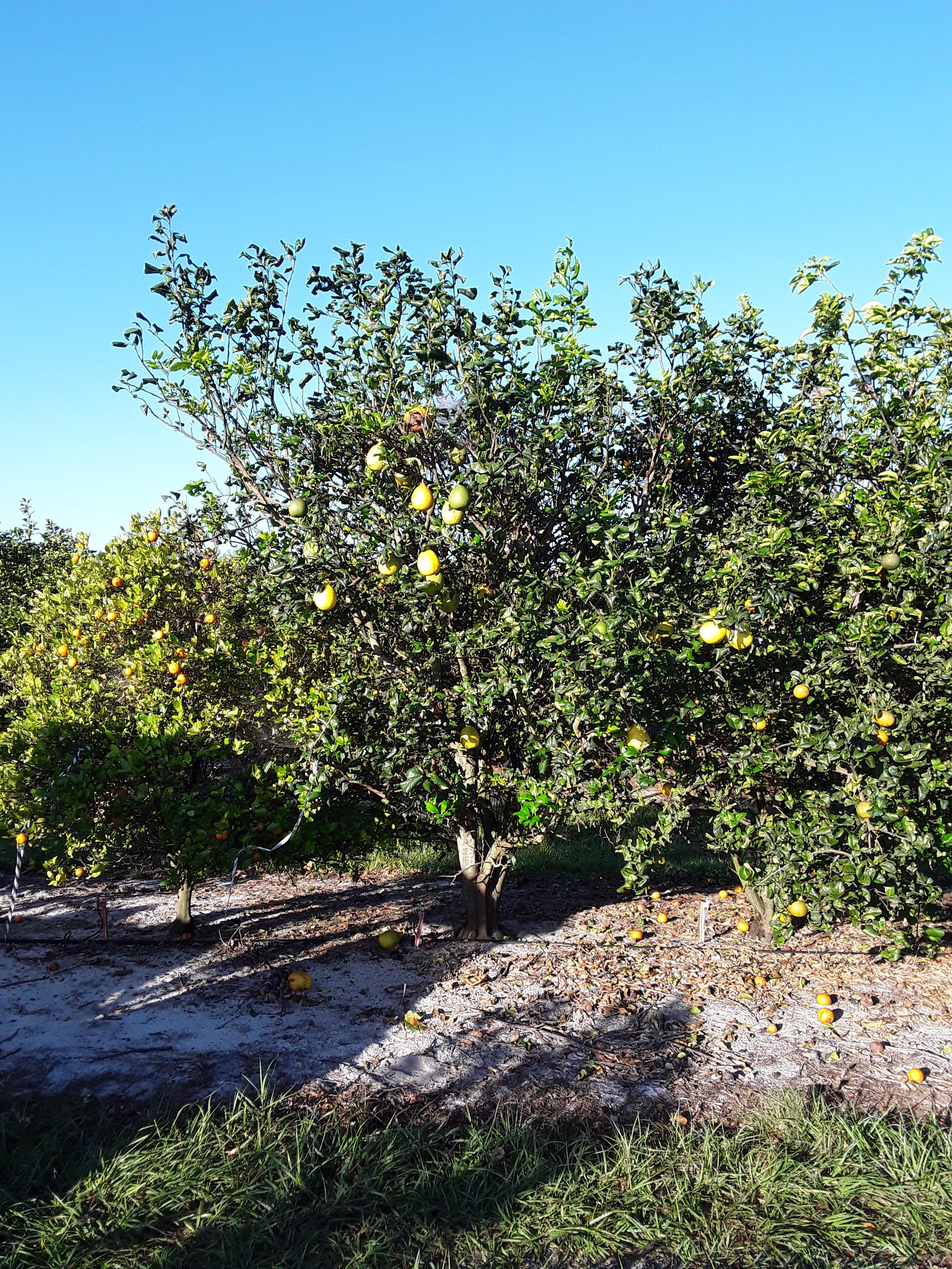fruit_on_ground: (622, 721, 654, 758), (401, 402, 432, 435), (407, 485, 437, 519), (313, 577, 339, 615), (439, 493, 467, 528), (702, 617, 729, 651), (727, 624, 759, 651), (365, 440, 389, 474), (417, 569, 448, 595), (448, 481, 473, 513), (377, 548, 405, 575), (436, 586, 465, 612), (649, 619, 678, 645), (459, 727, 481, 755), (445, 442, 470, 466), (287, 494, 311, 519), (784, 898, 807, 924), (417, 547, 440, 573), (854, 797, 877, 822), (880, 550, 902, 572), (874, 710, 897, 727), (870, 728, 891, 746), (793, 681, 810, 700), (750, 715, 769, 731), (659, 781, 677, 797), (741, 596, 758, 612), (777, 909, 794, 924), (17, 832, 31, 849), (213, 830, 229, 841), (198, 556, 211, 569), (70, 626, 83, 639), (176, 673, 189, 686), (168, 662, 181, 675), (146, 530, 160, 542), (655, 752, 667, 766), (111, 575, 123, 588), (70, 552, 82, 565), (56, 644, 68, 657), (174, 648, 187, 660), (111, 814, 123, 827), (251, 850, 263, 863), (117, 785, 128, 799), (152, 629, 164, 641), (271, 825, 284, 836), (204, 613, 216, 624), (255, 820, 266, 832), (122, 666, 133, 677), (67, 657, 77, 668), (93, 609, 104, 619), (142, 609, 152, 620), (74, 868, 85, 878), (106, 612, 118, 621)
fruit_on_tree: (786, 905, 810, 933), (288, 970, 312, 997), (816, 1004, 838, 1029), (378, 928, 400, 952), (910, 1068, 930, 1091), (735, 918, 752, 938), (815, 991, 833, 1005), (629, 928, 643, 944), (765, 1022, 779, 1038), (655, 913, 668, 923), (48, 961, 59, 972), (182, 931, 192, 941), (718, 890, 729, 899), (733, 884, 744, 893), (650, 891, 661, 899), (14, 914, 23, 923)
